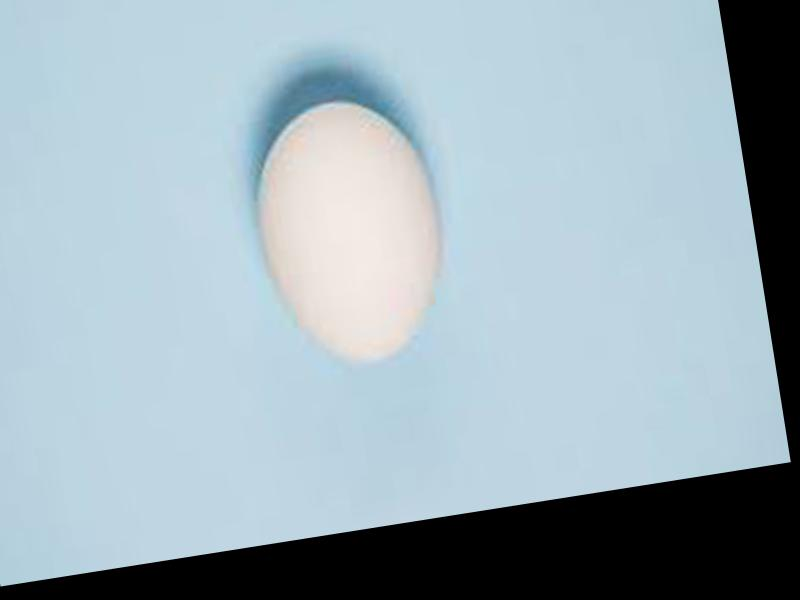Eggs: (244, 88, 460, 378)
